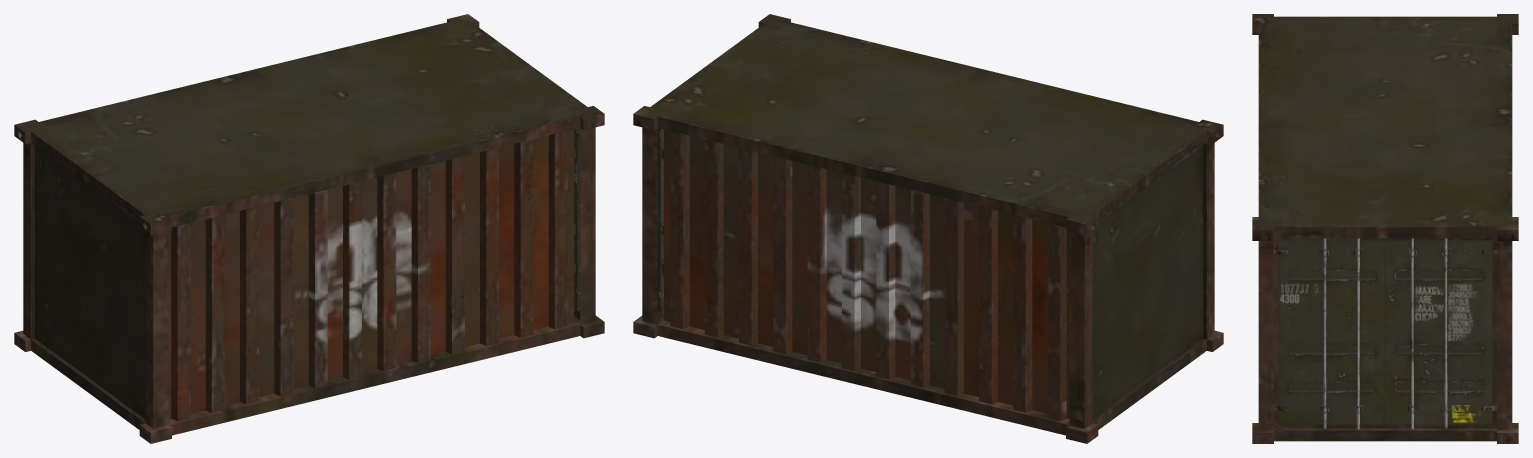
The model's file is rust-container.lod1.glb.
3 renders of one model, left to right at view 1: azimuth 30°, elevation 25°; view 2: azimuth 150°, elevation 25°; view 3: azimuth 270°, elevation 25°, orthographic. The views are drawn at different scales.
Parts seen in each view (by area): view 1: frame_frame_0, right side_corrugated sides_0, right door_front doors_0; view 2: frame_frame_0, right side_corrugated sides_0, right door_front doors_0; view 3: frame_frame_0, right door_front doors_0.
Boxes of the visible parts, bbox=[...] form: frame_frame_0: bbox=[14, 14, 604, 443]; right side_corrugated sides_0: bbox=[168, 129, 574, 421]; right door_front doors_0: bbox=[574, 128, 580, 311]; frame_frame_0: bbox=[633, 14, 1223, 443]; right side_corrugated sides_0: bbox=[664, 129, 1069, 420]; right door_front doors_0: bbox=[657, 128, 663, 311]; frame_frame_0: bbox=[1252, 14, 1518, 443]; right door_front doors_0: bbox=[1276, 238, 1494, 429].
Size of the model in its own units: 12.2 by 5.63 by 6.36.
Materials: 3 (3 with a texture image).
